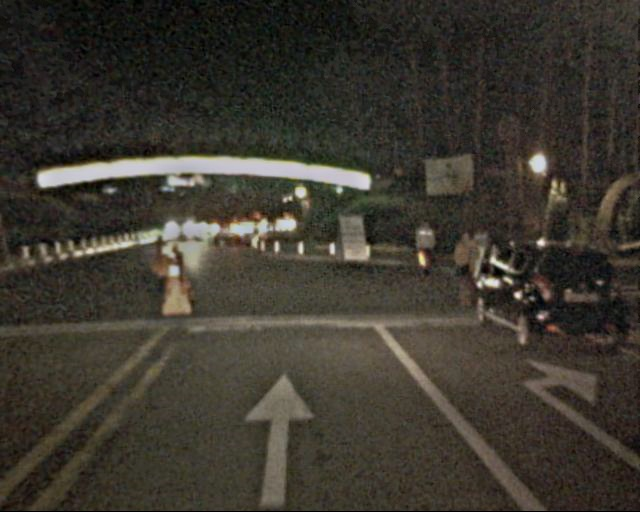person: (451, 233, 480, 304), (414, 220, 439, 281), (473, 232, 498, 293)
